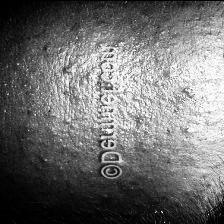Non-Cancerous Skin Condition: (181, 84, 197, 100)
